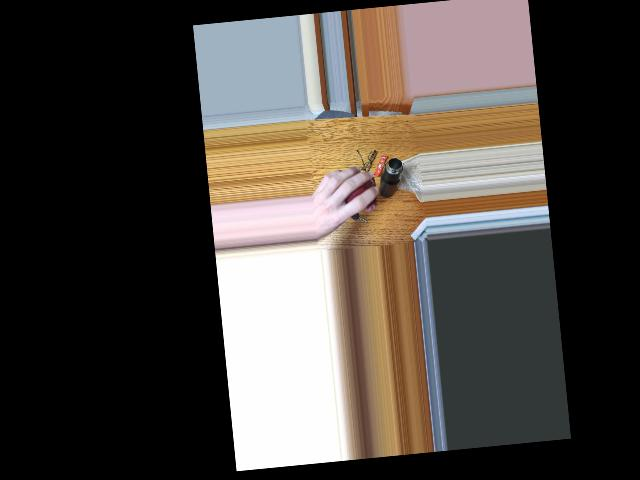onion: (335, 171, 371, 214)
